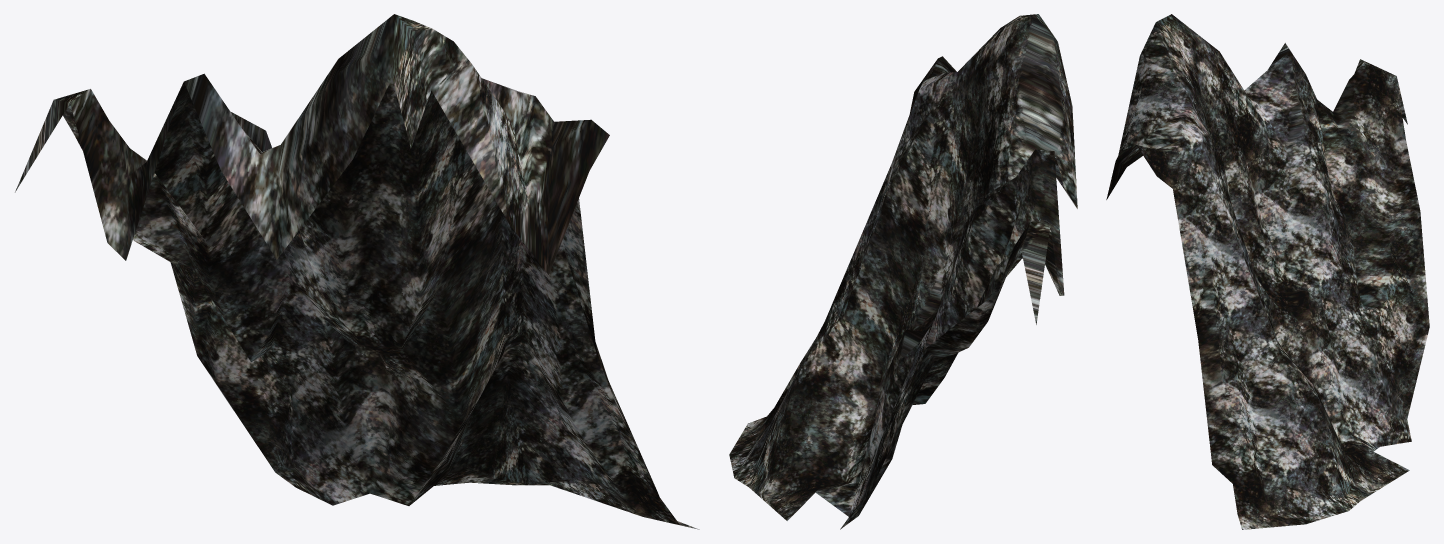
The model's file is OVERHILL_A_01_MOUN1_OBJECT155.fbx.
3 views of the same model, side by side, from view 1: azimuth 30°, elevation 25°; view 2: azimuth 150°, elevation 25°; view 3: azimuth 270°, elevation 25° (orthographic). The views are drawn at different scales.
Visible parts, largest first — view 1: OVERHILL_A_01_MOUN1_OBJECT155; view 2: OVERHILL_A_01_MOUN1_OBJECT155; view 3: OVERHILL_A_01_MOUN1_OBJECT155.
Boxes of the visible parts, bbox=[...] form: OVERHILL_A_01_MOUN1_OBJECT155: bbox=[15, 14, 699, 529]; OVERHILL_A_01_MOUN1_OBJECT155: bbox=[729, 14, 1077, 529]; OVERHILL_A_01_MOUN1_OBJECT155: bbox=[1106, 14, 1429, 529].
Bounding box in the file's own units: 303134 × 338849 × 244358.
Materials: 1 (1 with a texture image).
